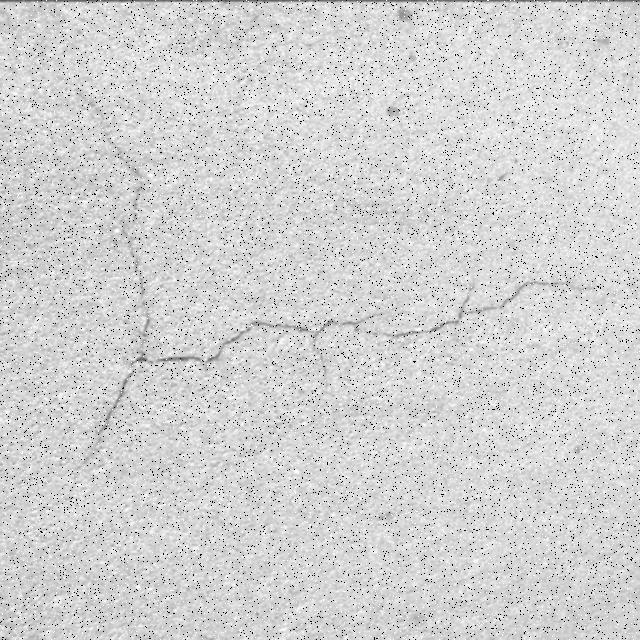Crack: (76, 92, 596, 469)
